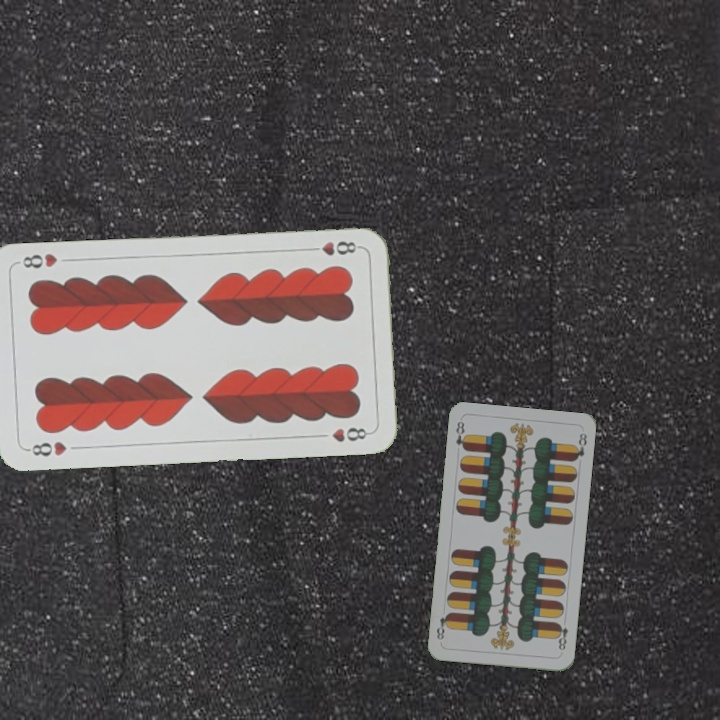E8: (552, 615, 570, 653), (452, 417, 470, 453)
H8: (304, 237, 363, 258), (23, 437, 69, 459)
